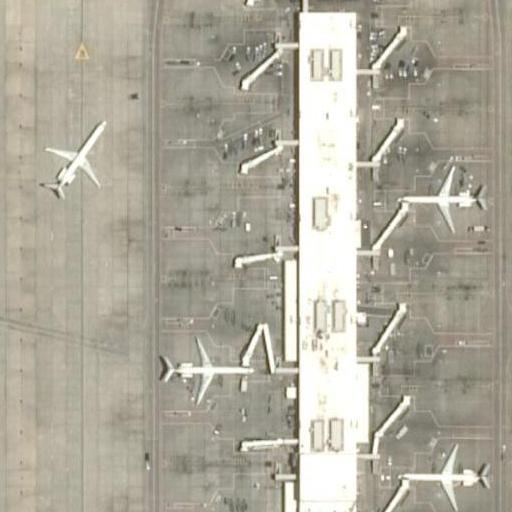Aircraft: (389, 440, 488, 511), (389, 164, 488, 234), (155, 340, 253, 405), (37, 116, 106, 198)
